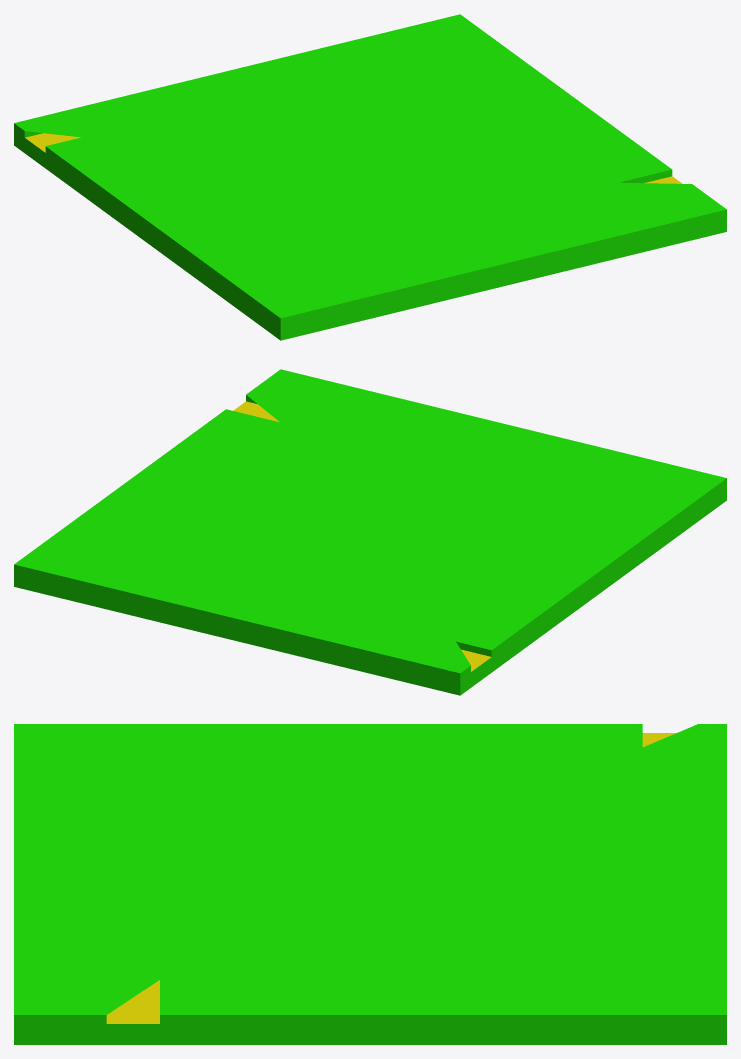
The model's file is Level1.fbx.
3 renders of one model, top to bottom at view 1: azimuth 30°, elevation 25°; view 2: azimuth 150°, elevation 25°; view 3: azimuth 270°, elevation 25°, orthographic. The views are drawn at different scales.
Visible parts, largest first — view 1: MAP, PATH; view 2: MAP, PATH; view 3: MAP, PATH.
Part boxes in pixels (bbox=[...]): MAP: bbox=[14, 14, 726, 340]; PATH: bbox=[25, 133, 682, 183]; MAP: bbox=[14, 369, 726, 695]; PATH: bbox=[233, 401, 491, 671]; MAP: bbox=[14, 724, 726, 1044]; PATH: bbox=[106, 733, 676, 1023].
Bounding box in the file's own units: 986 × 47.13 × 1020.
